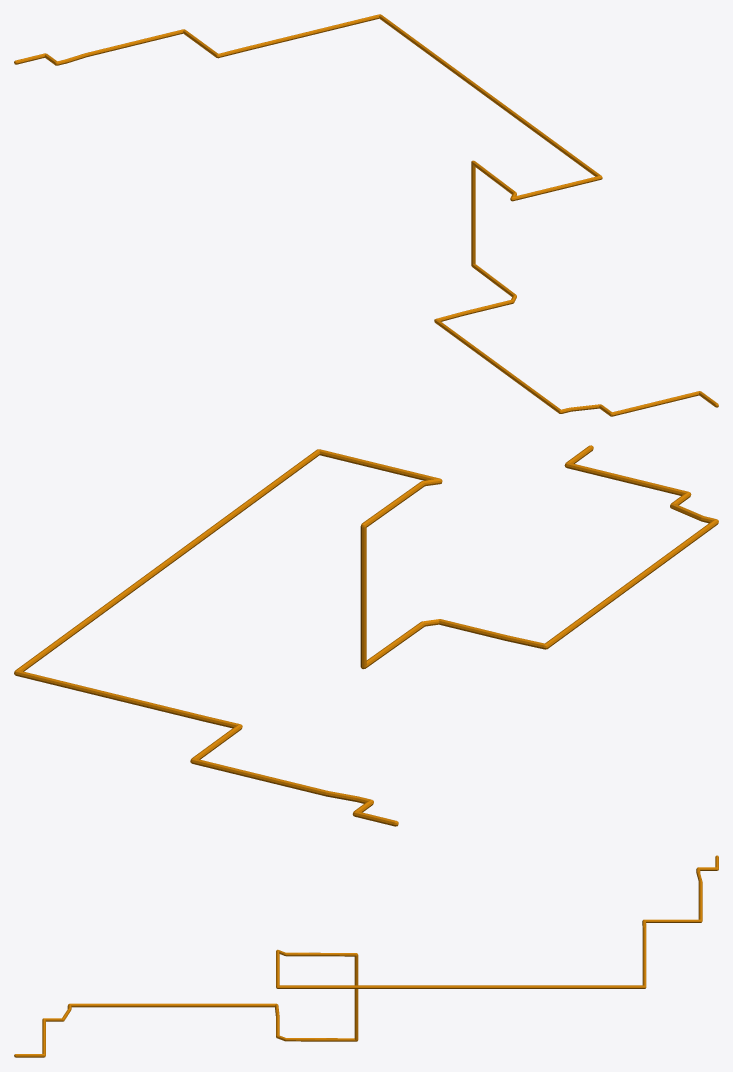
3 views of the same model, one above another, from view 1: azimuth 30°, elevation 25°; view 2: azimuth 150°, elevation 25°; view 3: azimuth 270°, elevation 25° (orthographic). The views are drawn at different scales.
Bounding box in the file's own units: 1655 × 520 × 3748.
